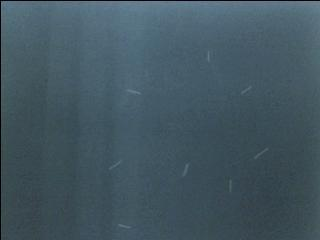scratch: (248, 146, 270, 162), (177, 160, 193, 180), (123, 85, 143, 99), (225, 176, 237, 197), (237, 83, 253, 97), (115, 221, 137, 230), (108, 159, 123, 170), (205, 48, 213, 65)
